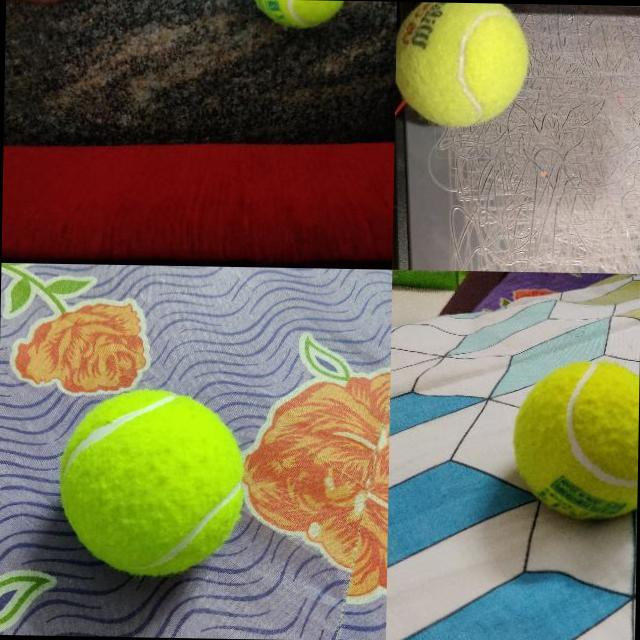Tennis Ball: (56, 386, 246, 576), (512, 358, 640, 520), (396, 2, 530, 132), (247, 0, 349, 28)
